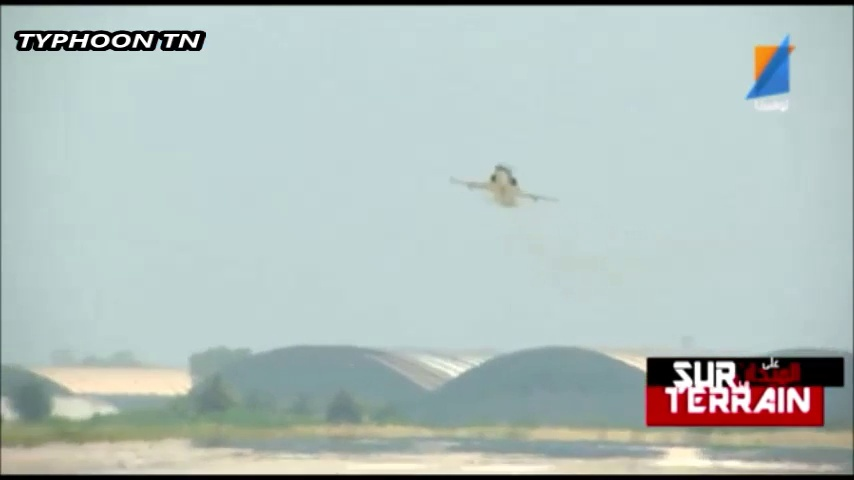Airplane: (448, 163, 559, 209)
